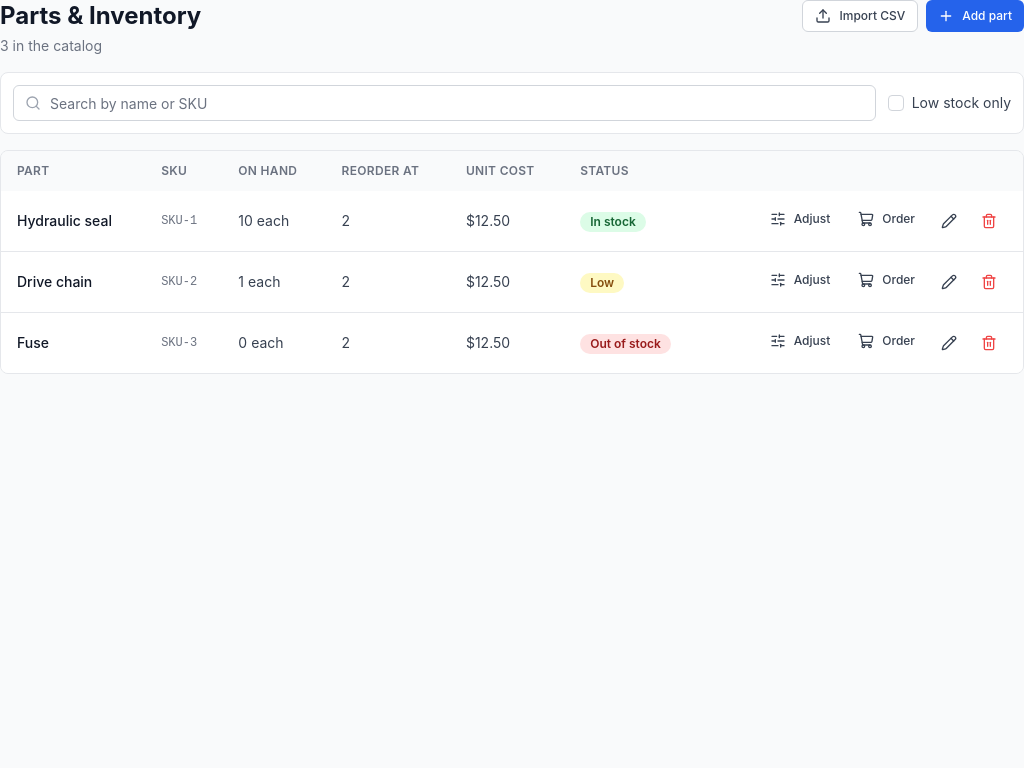
Test: PartsPage › will not remove more than is in stock, and sends nothing
The width and height of the screenshot is (1024, 768).
Click the button with aria-label "Adjust stock of Drive chain". click: (800, 280)
box: [758,264,842,296]
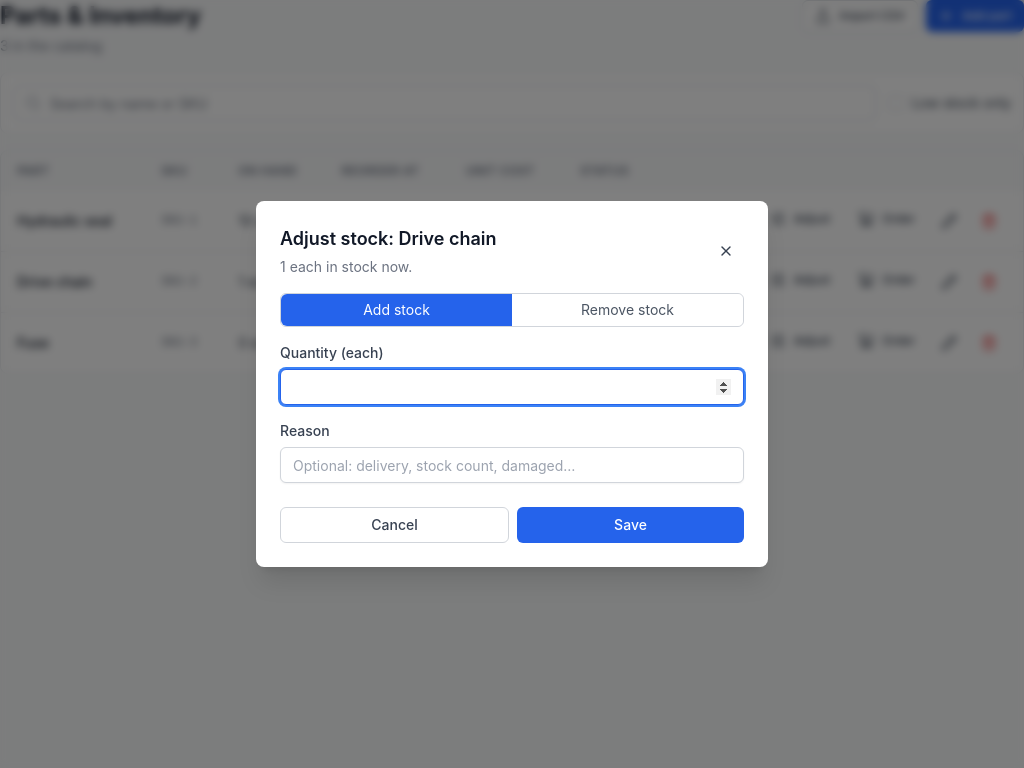
Click the radio button labelled "Remove stock". click: (628, 310)
box: [512,294,743,326]
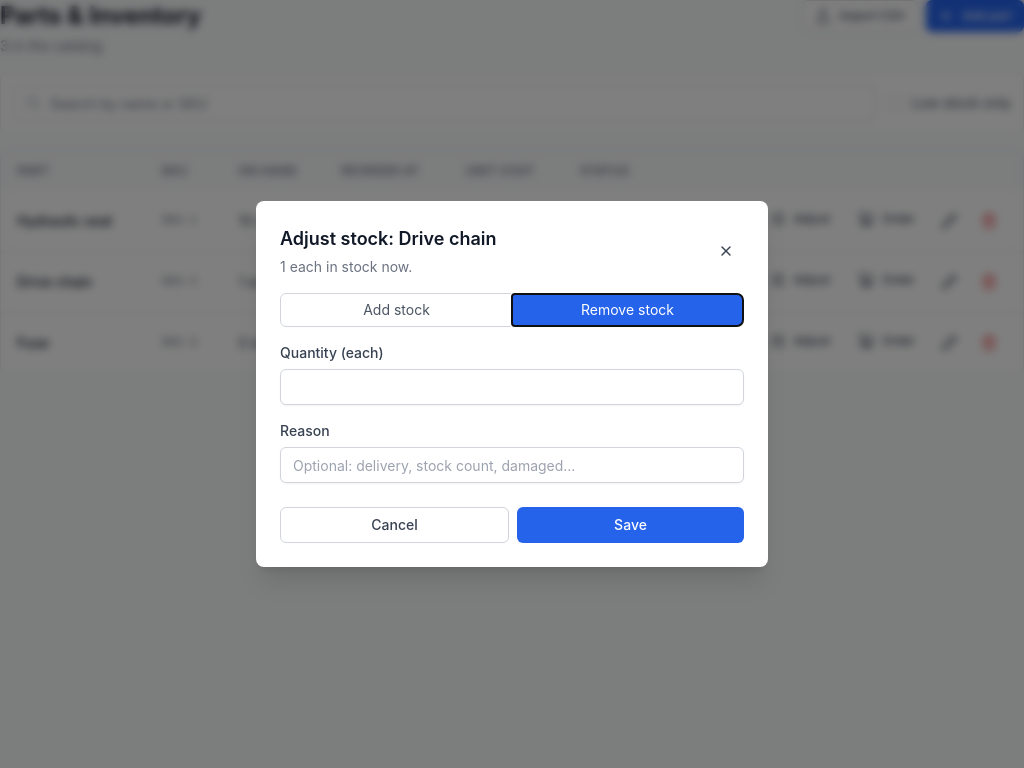
Type "5" into the number field labelled "Quantity (each)". click: (512, 387)
box: [280,369,744,405]
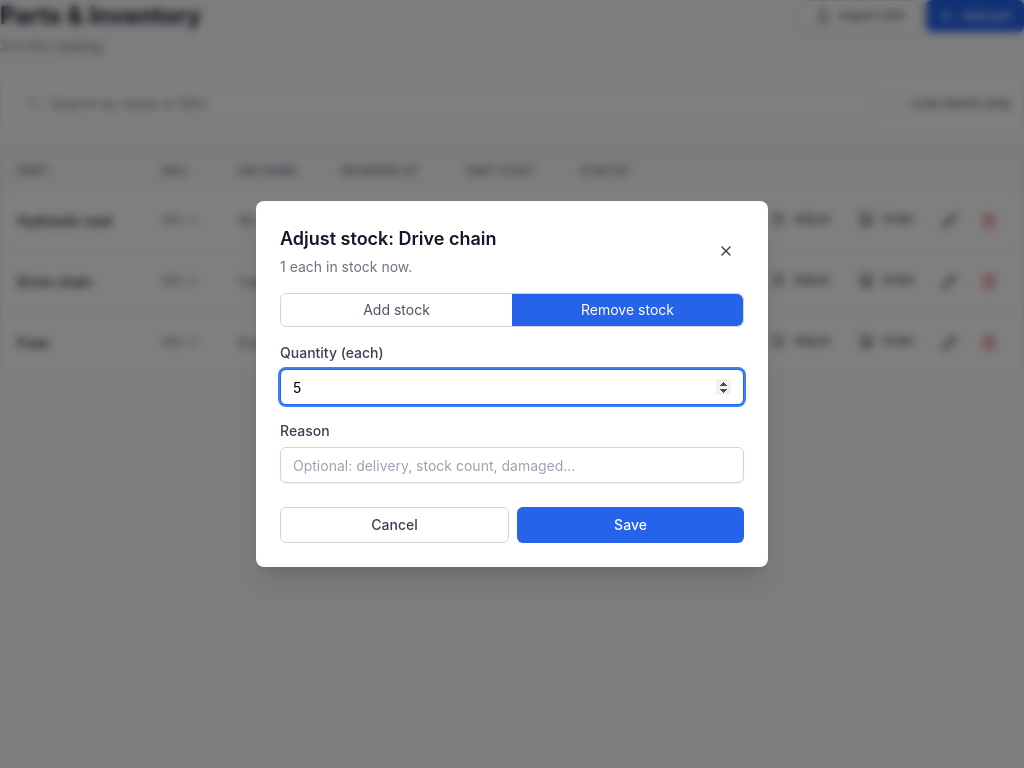
Click the button "Save". click: (630, 525)
box: [517,507,744,543]
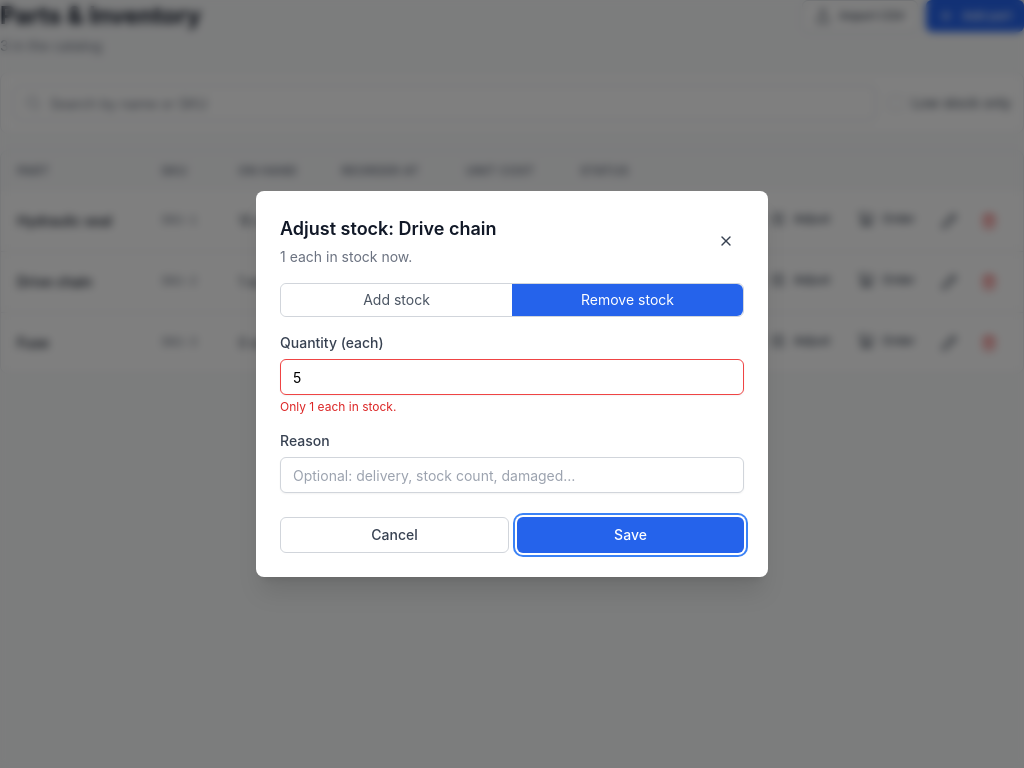
Check: the text "Only 1 each in stock." is shown, box [280,399,396,414]
